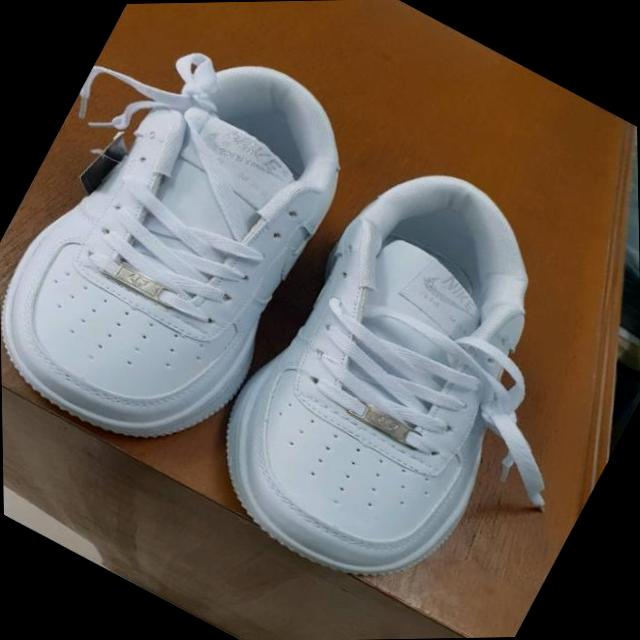nike_fake_airforce: (178, 128, 640, 640), (0, 0, 389, 485)
